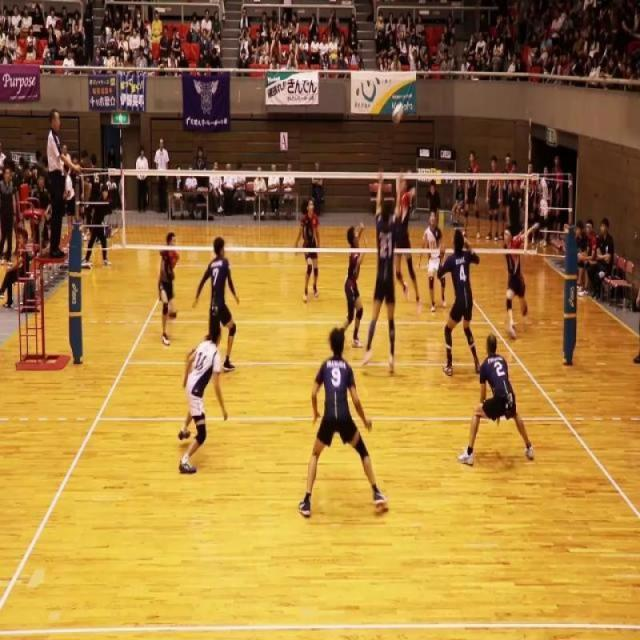volleyball: (391, 102, 404, 125)
